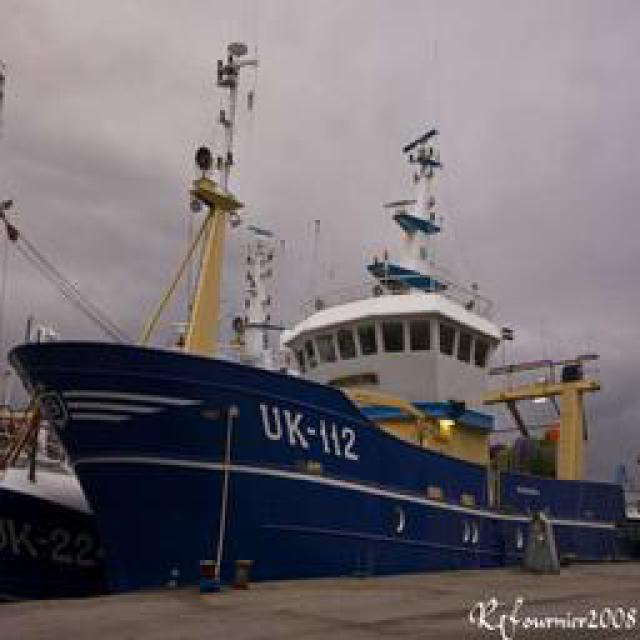Ship: (6, 280, 566, 588)
